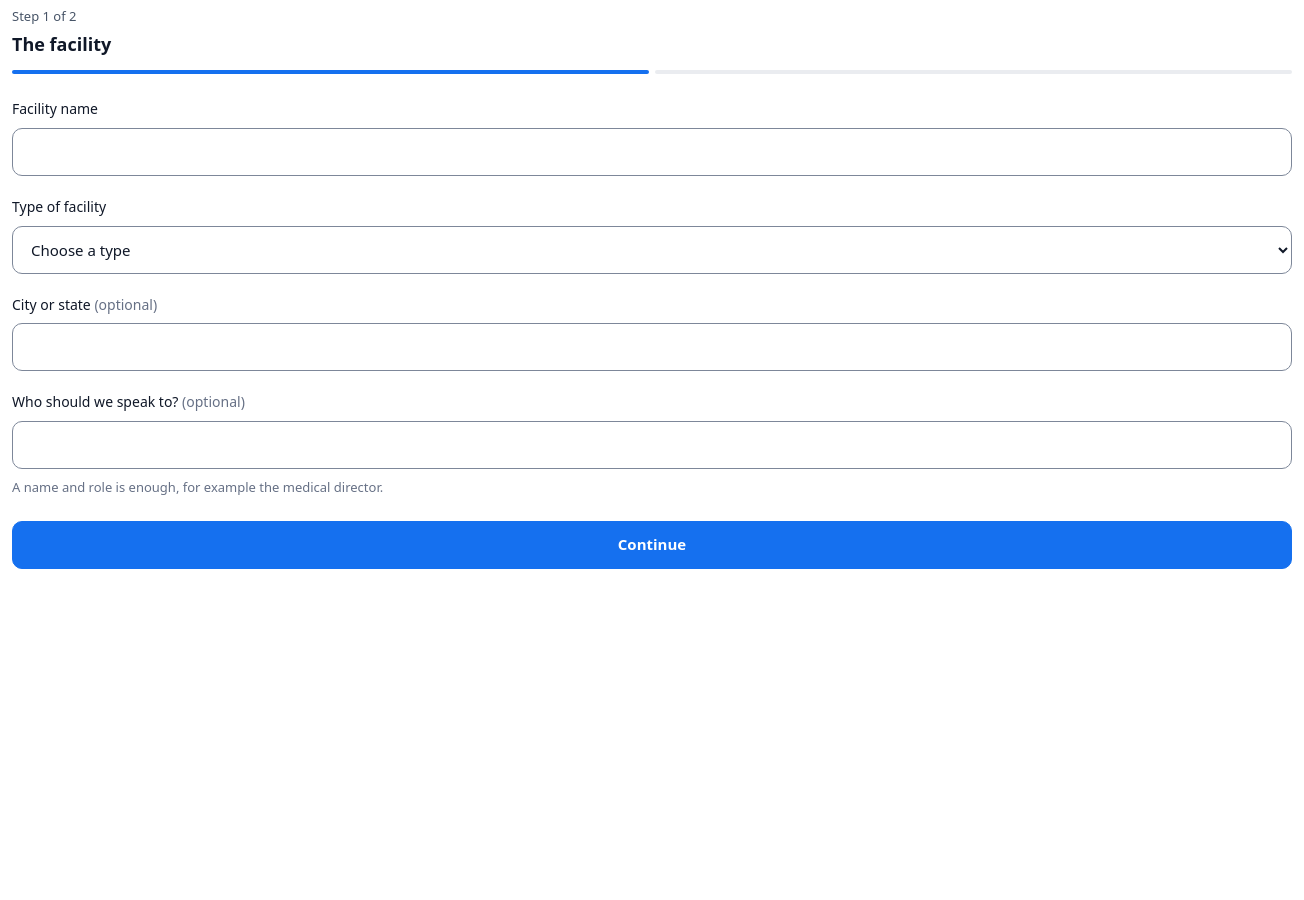
Test case: referral form › sends nothing until the referrer step is complete
This screenshot has width=1304, height=900.
Type "Lagos General Hospital" into the field named "facilityName" at (652, 152), box [12,128,1292,176]
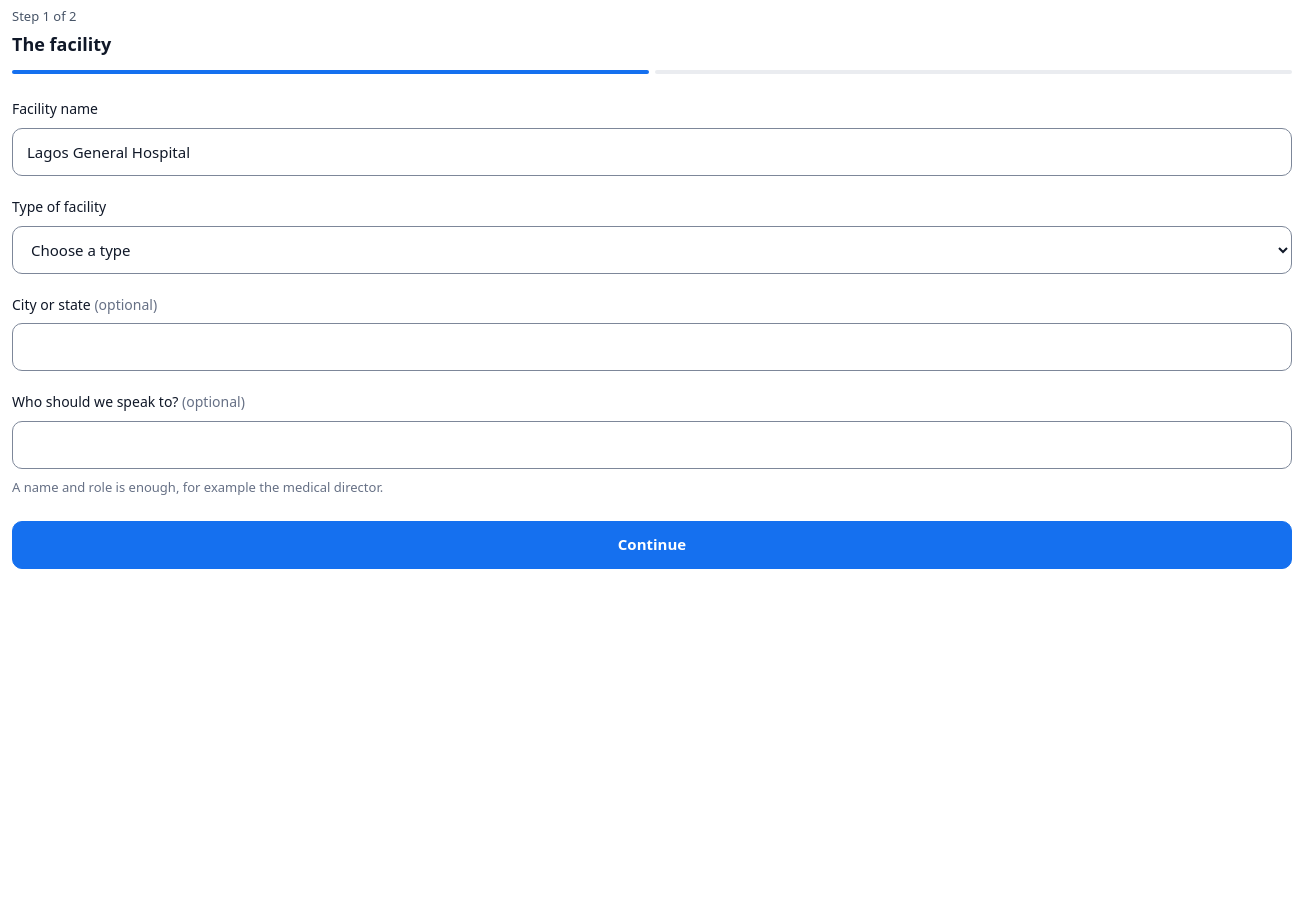
Select "Clinic" in the dropdown labelled "Type of facility" at (652, 250), box [12,226,1292,274]
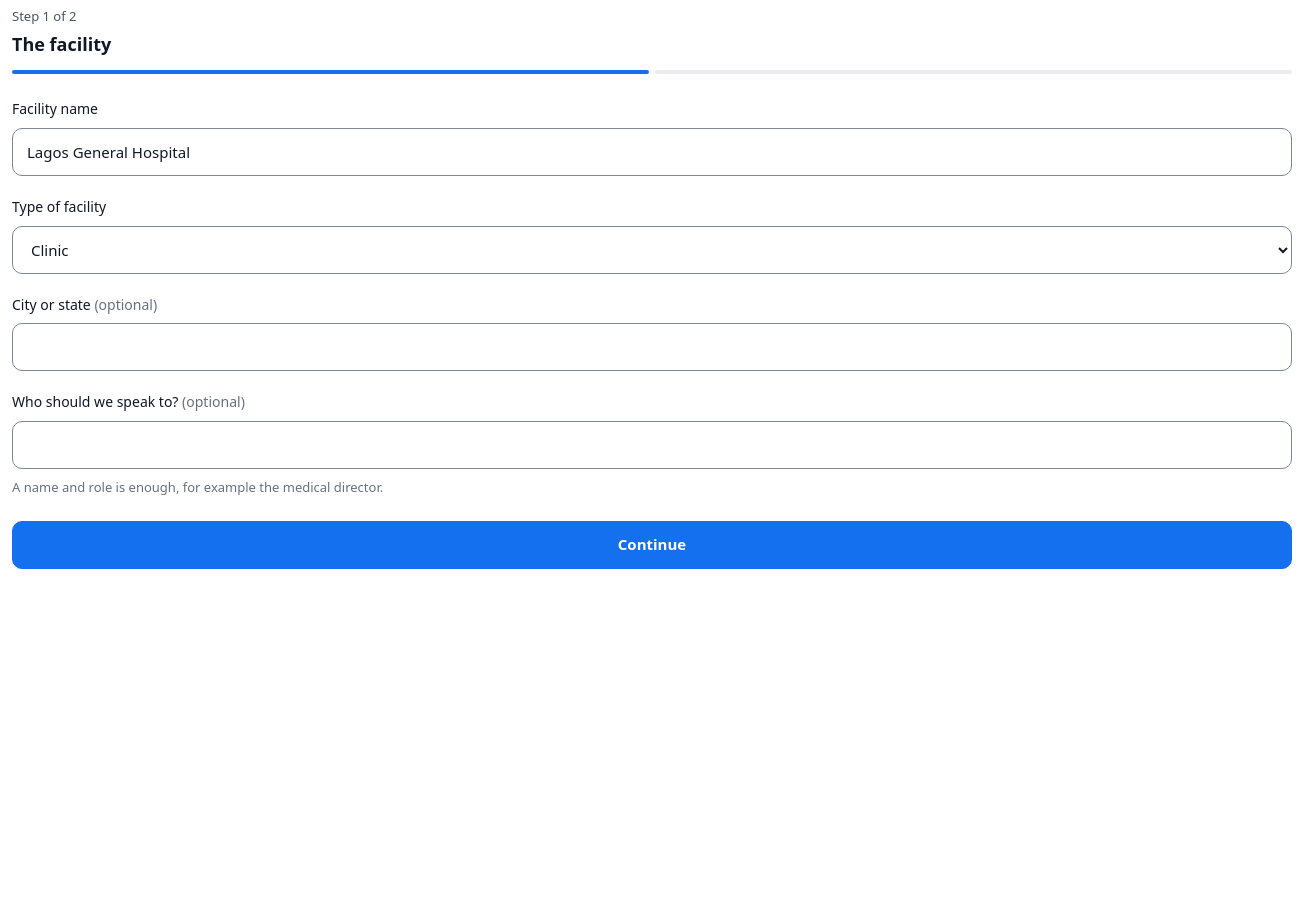
Click the button "Continue" at (652, 545), box [12,521,1292,569]
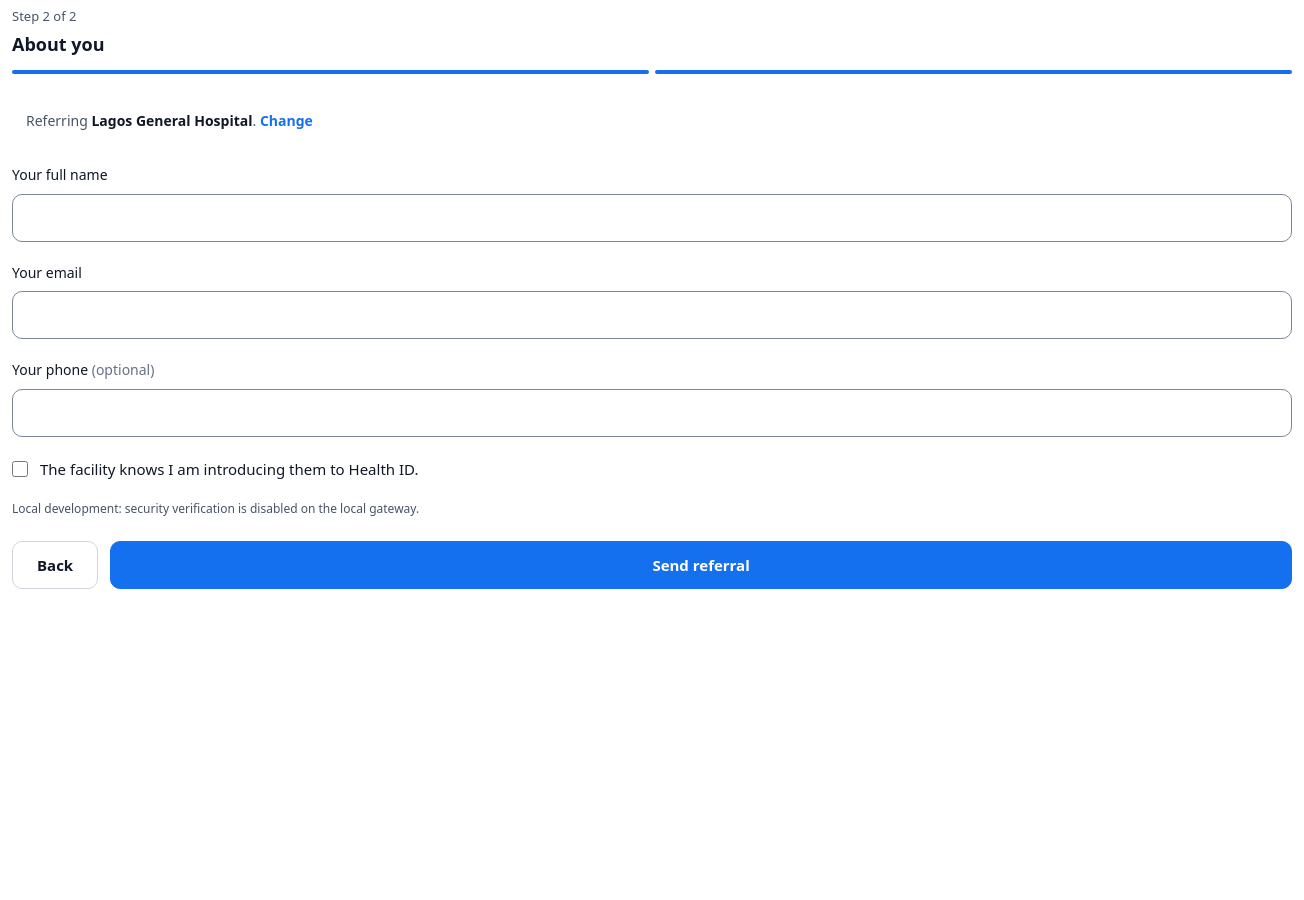
Click the button "Send referral" at (701, 565), box [110,541,1292,589]
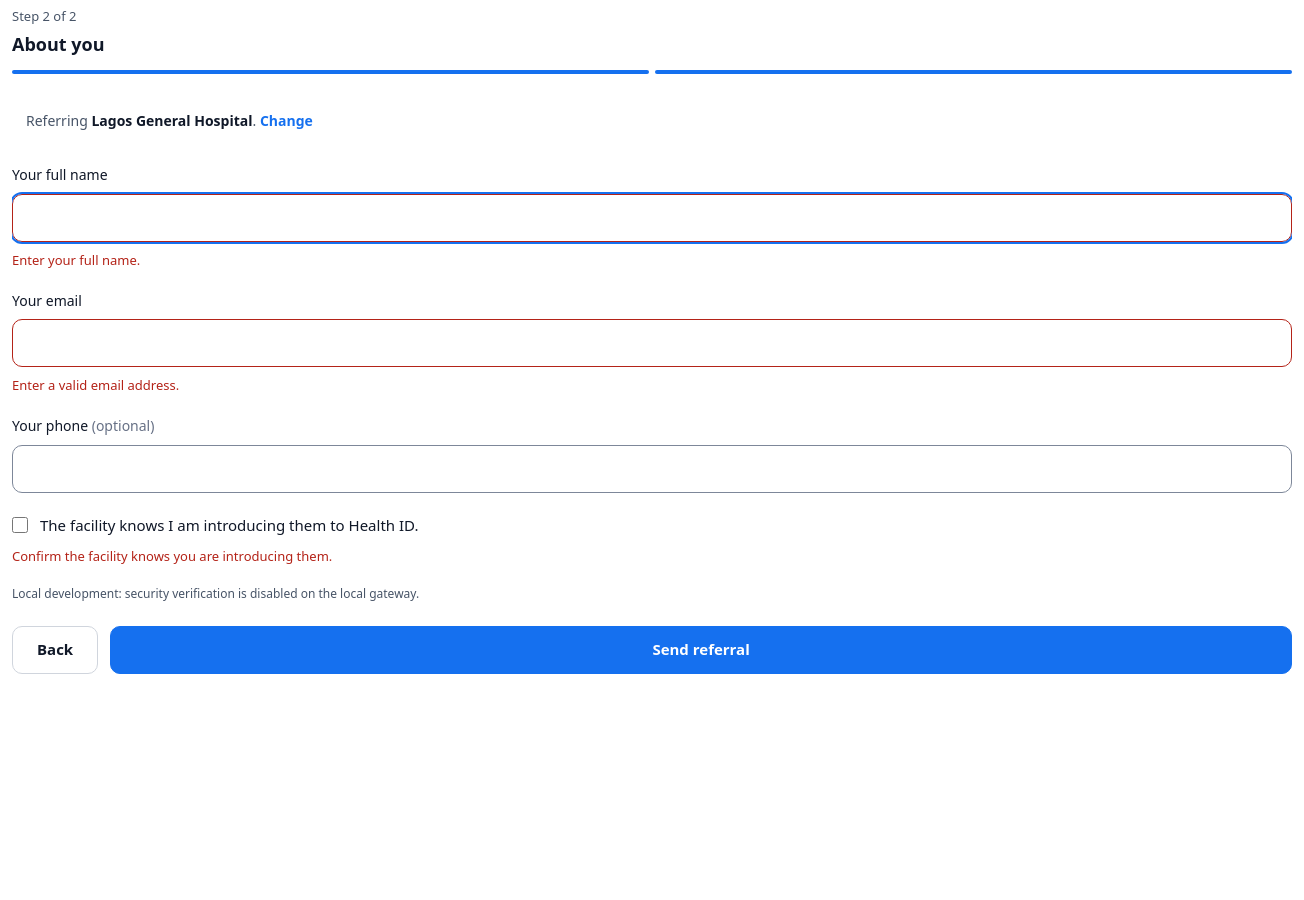
Result: the text "Enter your full name." is shown at [12,250,140,268]
Result: the text "Confirm the facility knows you are introducing them." is shown at [12,546,332,564]
